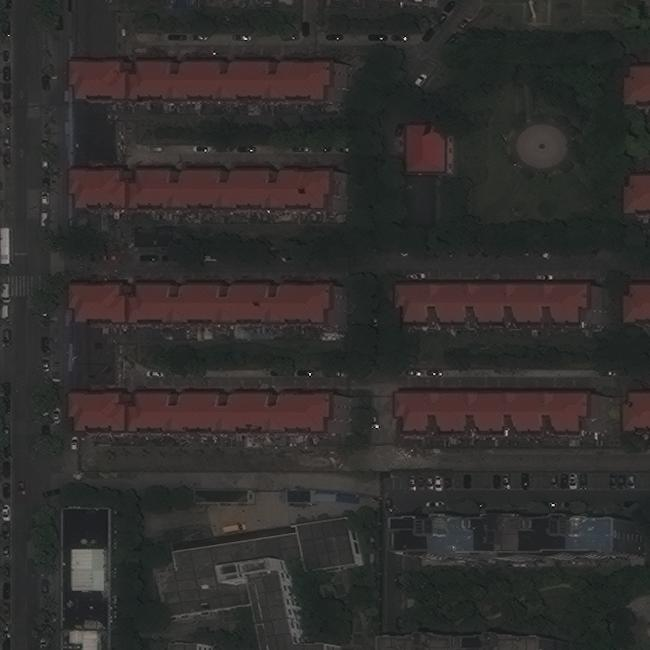parking lot: (408, 473, 634, 491)
